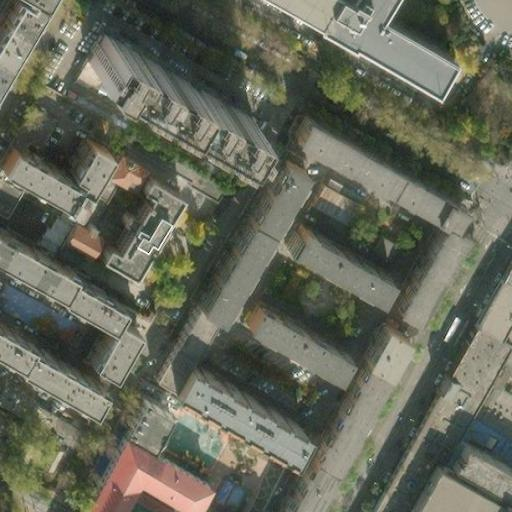building: (285, 108, 463, 223), (76, 28, 240, 138), (266, 349, 376, 512), (190, 153, 295, 320), (165, 362, 297, 454), (315, 0, 451, 89), (74, 430, 200, 512), (95, 167, 177, 275), (0, 130, 103, 208), (287, 223, 394, 298), (434, 316, 512, 416), (240, 298, 345, 371), (390, 216, 461, 315), (16, 340, 106, 403), (394, 461, 480, 512), (145, 314, 201, 392), (54, 280, 117, 331), (86, 321, 133, 378), (308, 182, 363, 230), (357, 312, 403, 364), (119, 396, 162, 443), (58, 220, 104, 259), (5, 424, 46, 467), (101, 152, 142, 191), (0, 171, 20, 217), (31, 441, 57, 473)
